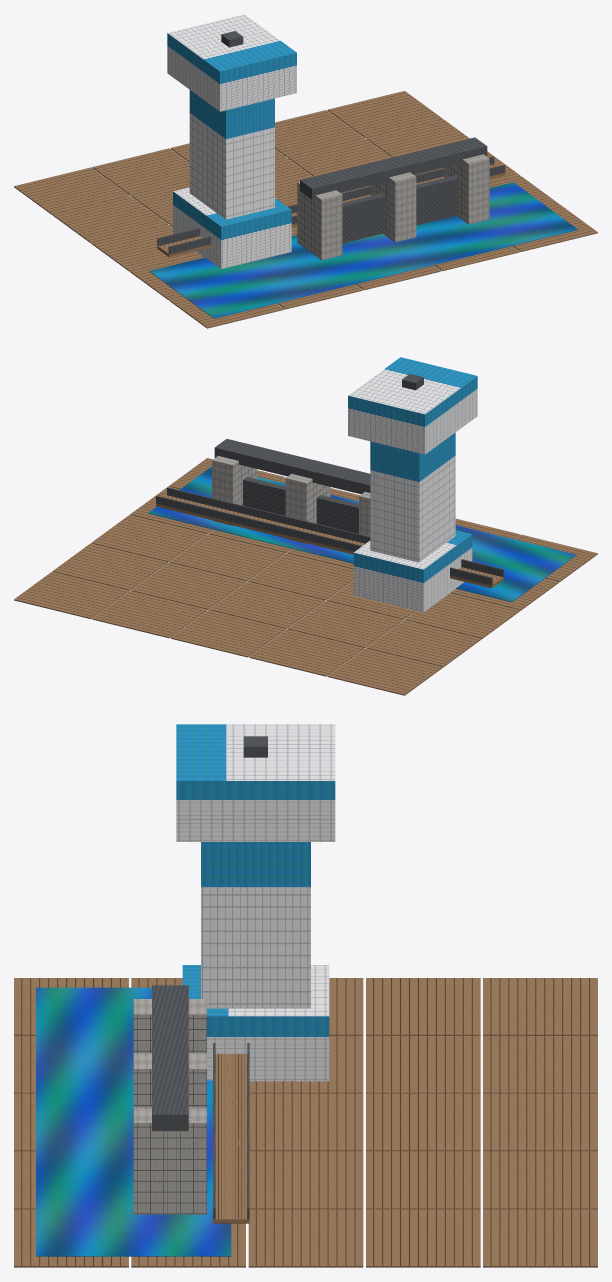
3 renders of one model, top to bottom at view 1: azimuth 30°, elevation 25°; view 2: azimuth 150°, elevation 25°; view 3: azimuth 270°, elevation 25°, orthographic. The views are drawn at different scales.
Visible parts, largest first — view 1: 28185_B14_Waterfront_Aam_Lake; view 2: 28185_B14_Waterfront_Aam_Lake; view 3: 28185_B14_Waterfront_Aam_Lake.
Part boxes in pixels (x1=…): 28185_B14_Waterfront_Aam_Lake: x1=14, y1=14, x2=597, y2=328; 28185_B14_Waterfront_Aam_Lake: x1=14, y1=357, x2=597, y2=695; 28185_B14_Waterfront_Aam_Lake: x1=14, y1=724, x2=597, y2=1267.
Size of the model in its own units: 55.8 by 28.5 by 47.8.
Materials: 1 (1 with a texture image).
